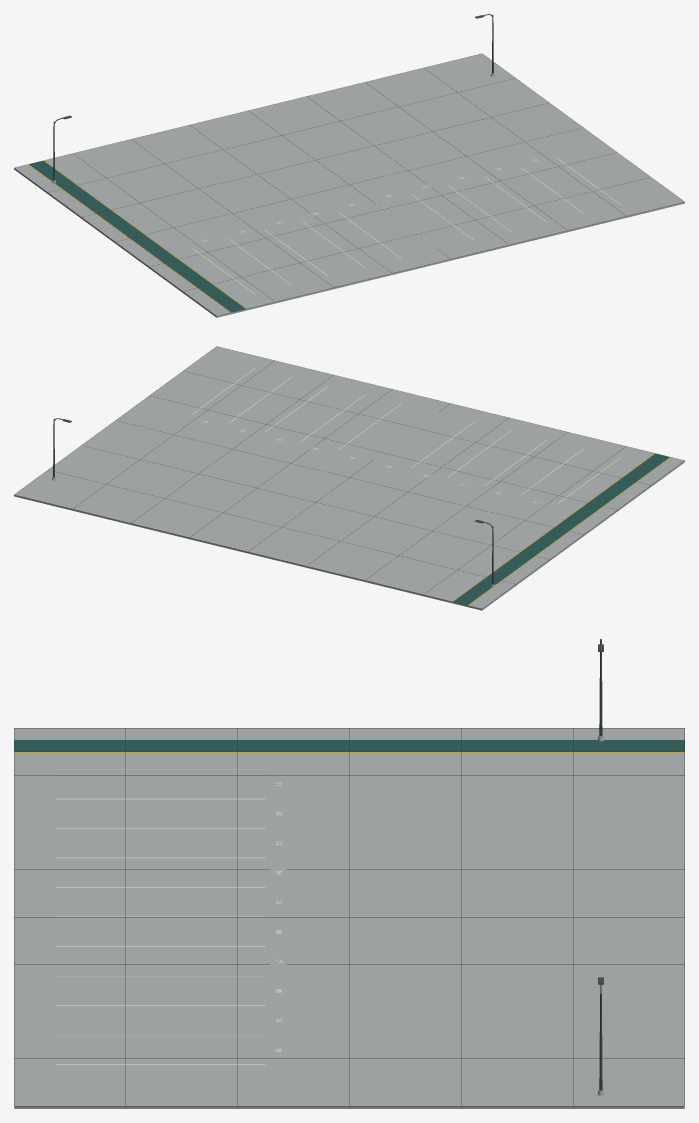
Rendered from logistics-yard.glb.
3 renders of one model, top to bottom at view 1: azimuth 30°, elevation 25°; view 2: azimuth 150°, elevation 25°; view 3: azimuth 270°, elevation 25°, orthographic. The views are drawn at different scales.
Visible parts, largest first — view 1: logistics-yard_cast-concrete, logistics-yard_hubtrace-teal-cladding, logistics-yard_rubber-gaskets, logistics-yard_off-white-painted, logistics-yard_safety-yellow; view 2: logistics-yard_cast-concrete, logistics-yard_hubtrace-teal-cladding, logistics-yard_rubber-gaskets, logistics-yard_off-white-painted, logistics-yard_safety-yellow; view 3: logistics-yard_cast-concrete, logistics-yard_hubtrace-teal-cladding, logistics-yard_rubber-gaskets, logistics-yard_off-white-painted, logistics-yard_safety-yellow, logistics-yard_powder-coated-frame.
Boxes of the visible parts, x1,y1,x2,y2 form: logistics-yard_cast-concrete: (14,53,684,317); logistics-yard_hubtrace-teal-cladding: (29,160,245,312); logistics-yard_rubber-gaskets: (15,53,682,315); logistics-yard_off-white-painted: (192,158,620,294); logistics-yard_safety-yellow: (28,160,246,312); logistics-yard_cast-concrete: (14,346,684,610); logistics-yard_hubtrace-teal-cladding: (453,453,669,605); logistics-yard_rubber-gaskets: (14,346,684,608); logistics-yard_off-white-painted: (192,368,620,503); logistics-yard_safety-yellow: (452,453,670,605); logistics-yard_cast-concrete: (14,728,684,1108); logistics-yard_hubtrace-teal-cladding: (14,740,684,751); logistics-yard_rubber-gaskets: (14,728,684,1106); logistics-yard_off-white-painted: (56,769,265,1064); logistics-yard_safety-yellow: (14,739,684,752); logistics-yard_powder-coated-frame: (598,639,603,1090).
Bounding box in the file's own units: 64.03 × 8.44 × 48.03.
Materials: 12 (12 with a texture image).
